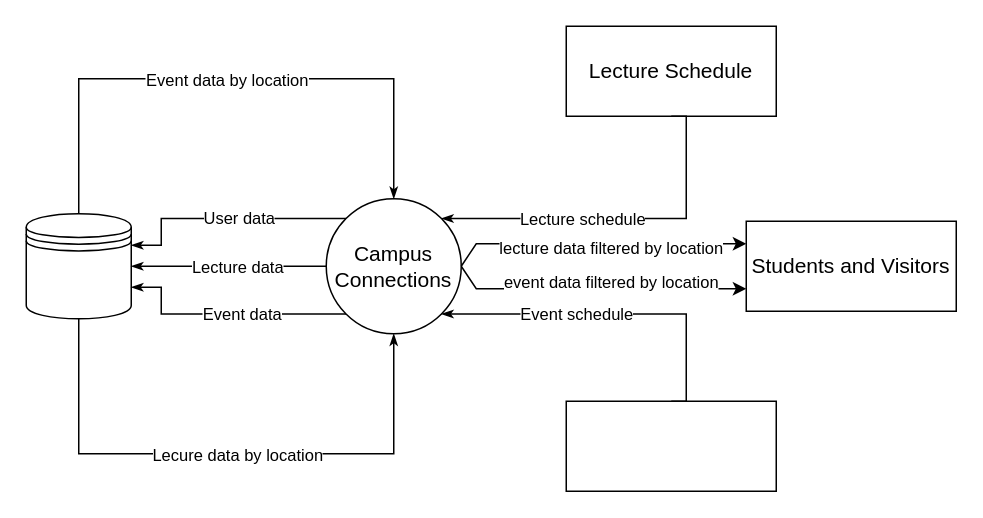
Some shapes in this 983 by 518 pixel diagram are drawn without their labels. The centre of each missing label's shape, as x and y in pixels:
"Campus Event Schedule" goes at pixel 670 445.
"Database" goes at pixel 78 265.
